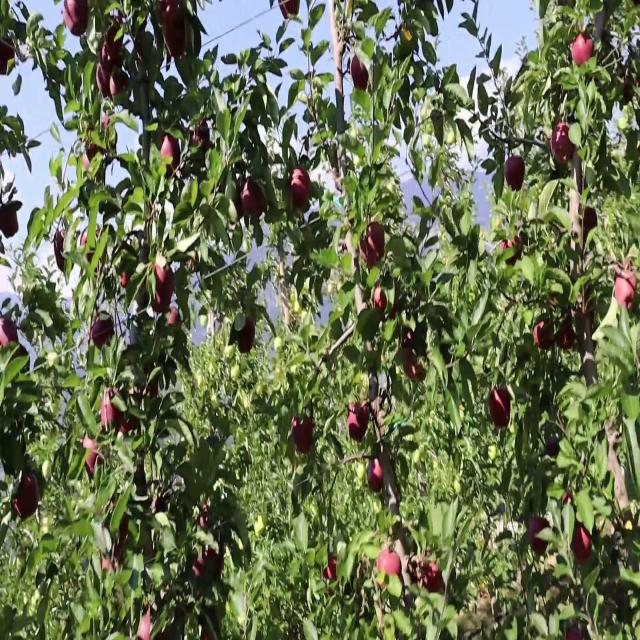apple: (360, 220, 387, 270), (164, 7, 189, 59), (152, 263, 176, 315), (552, 120, 577, 167), (404, 334, 427, 384), (16, 476, 40, 521), (288, 170, 313, 213), (104, 28, 126, 75), (244, 177, 268, 220), (64, 1, 91, 39), (572, 206, 599, 244), (376, 547, 401, 588), (404, 327, 427, 368), (488, 391, 512, 430), (84, 433, 104, 478), (100, 391, 124, 428), (160, 135, 181, 176), (348, 405, 370, 444), (192, 120, 213, 160), (376, 284, 398, 322), (292, 419, 315, 455), (528, 519, 551, 555), (504, 156, 527, 192), (96, 49, 115, 92), (500, 234, 524, 268), (576, 291, 596, 331), (92, 312, 114, 348), (572, 35, 595, 69), (572, 526, 592, 565), (156, 0, 183, 27), (196, 547, 218, 580), (0, 206, 20, 242), (424, 561, 444, 597), (616, 277, 637, 311), (404, 355, 428, 384), (580, 206, 599, 242), (620, 71, 640, 105), (556, 319, 576, 352), (536, 319, 554, 354), (352, 56, 369, 92), (240, 319, 256, 356), (96, 63, 112, 100), (0, 42, 16, 78), (368, 462, 385, 494), (112, 71, 131, 98), (4, 319, 19, 348), (324, 554, 339, 583), (84, 142, 100, 169), (280, 0, 301, 20), (80, 234, 93, 263), (148, 369, 160, 400), (56, 227, 67, 258), (140, 611, 152, 639), (200, 504, 211, 532), (168, 305, 181, 327), (120, 270, 132, 290), (548, 440, 560, 457), (156, 497, 168, 514), (236, 199, 244, 222), (564, 490, 573, 505)
